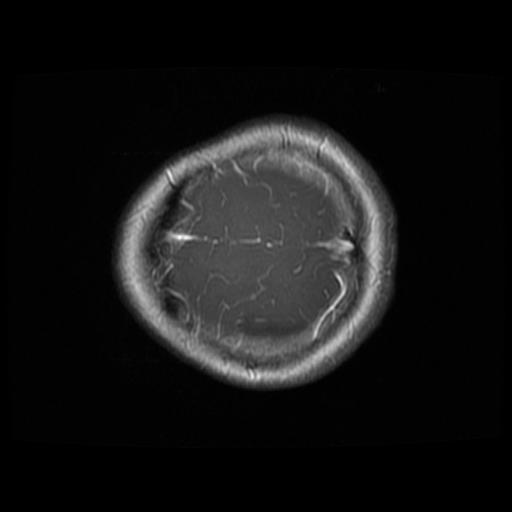glioma: (235, 314, 304, 336)
